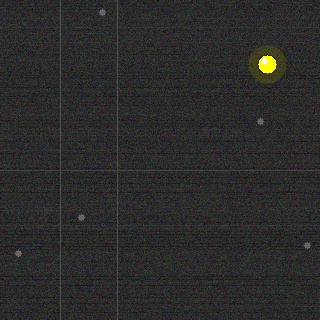yellow_warning: (256, 53, 278, 75)
